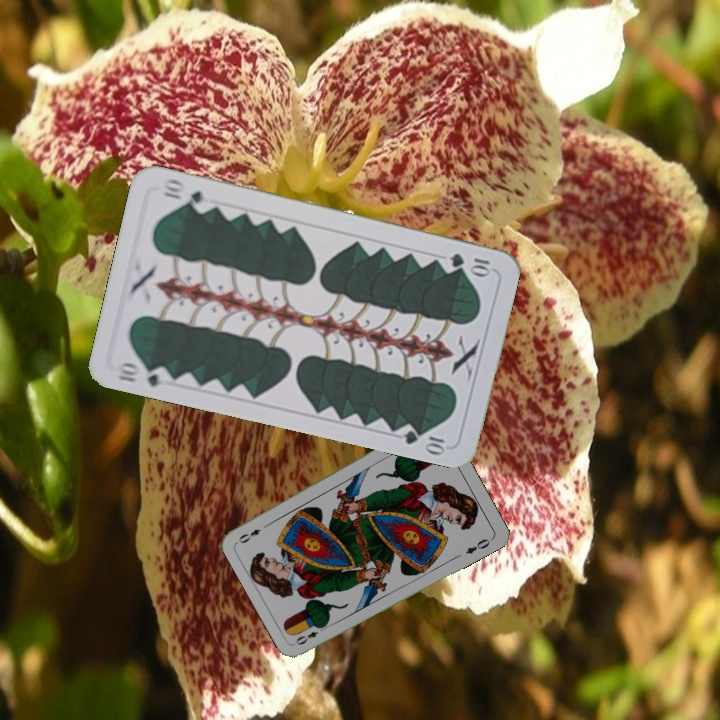EO: (291, 622, 329, 648)
G10: (112, 358, 172, 390), (446, 249, 495, 277)
